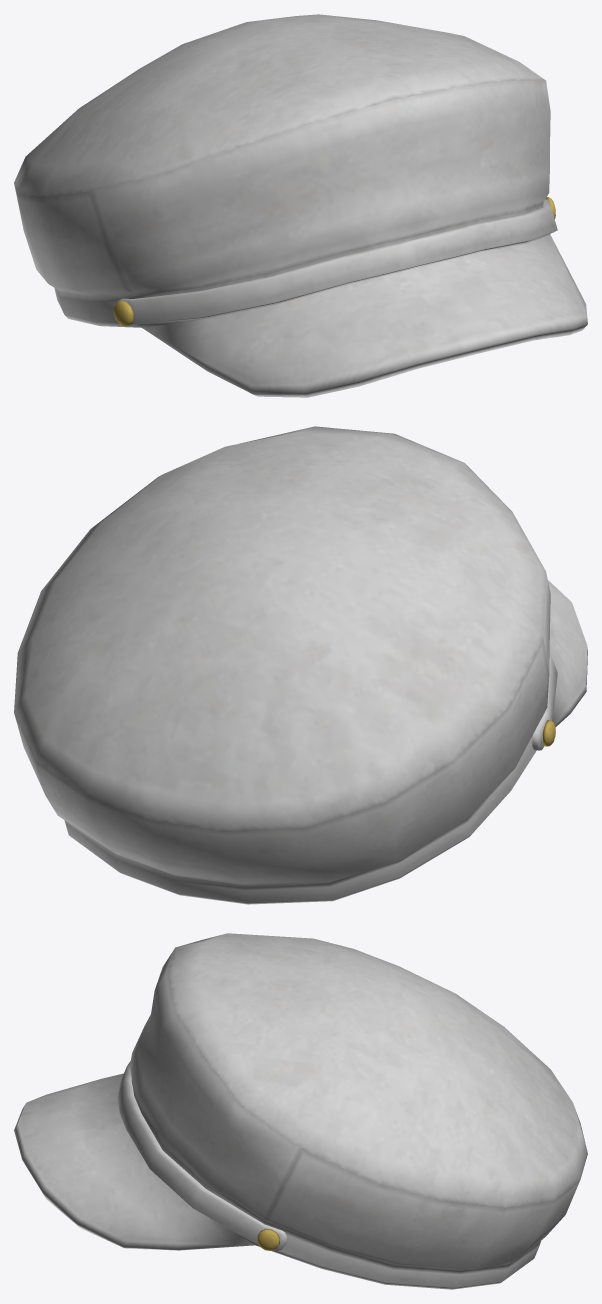
File: p0_hdw0005_00_hdw00.gltf
3 views of the same model, one above another, from view 1: azimuth 30°, elevation 25°; view 2: azimuth 150°, elevation 25°; view 3: azimuth 270°, elevation 25° (orthographic). The views are drawn at different scales.
Visible parts, largest first — view 1: hdw00_cap_mesh_shape:cap; view 2: hdw00_cap_mesh_shape:cap; view 3: hdw00_cap_mesh_shape:cap.
Part boxes in pixels (x1,y1,x2,y2): hdw00_cap_mesh_shape:cap: (14, 14, 587, 397); hdw00_cap_mesh_shape:cap: (14, 426, 587, 904); hdw00_cap_mesh_shape:cap: (14, 933, 587, 1289).
Size of what is drawn, in the model's own units: 0.3232 by 0.2062 by 0.3955.
1 material, 1 textured.
